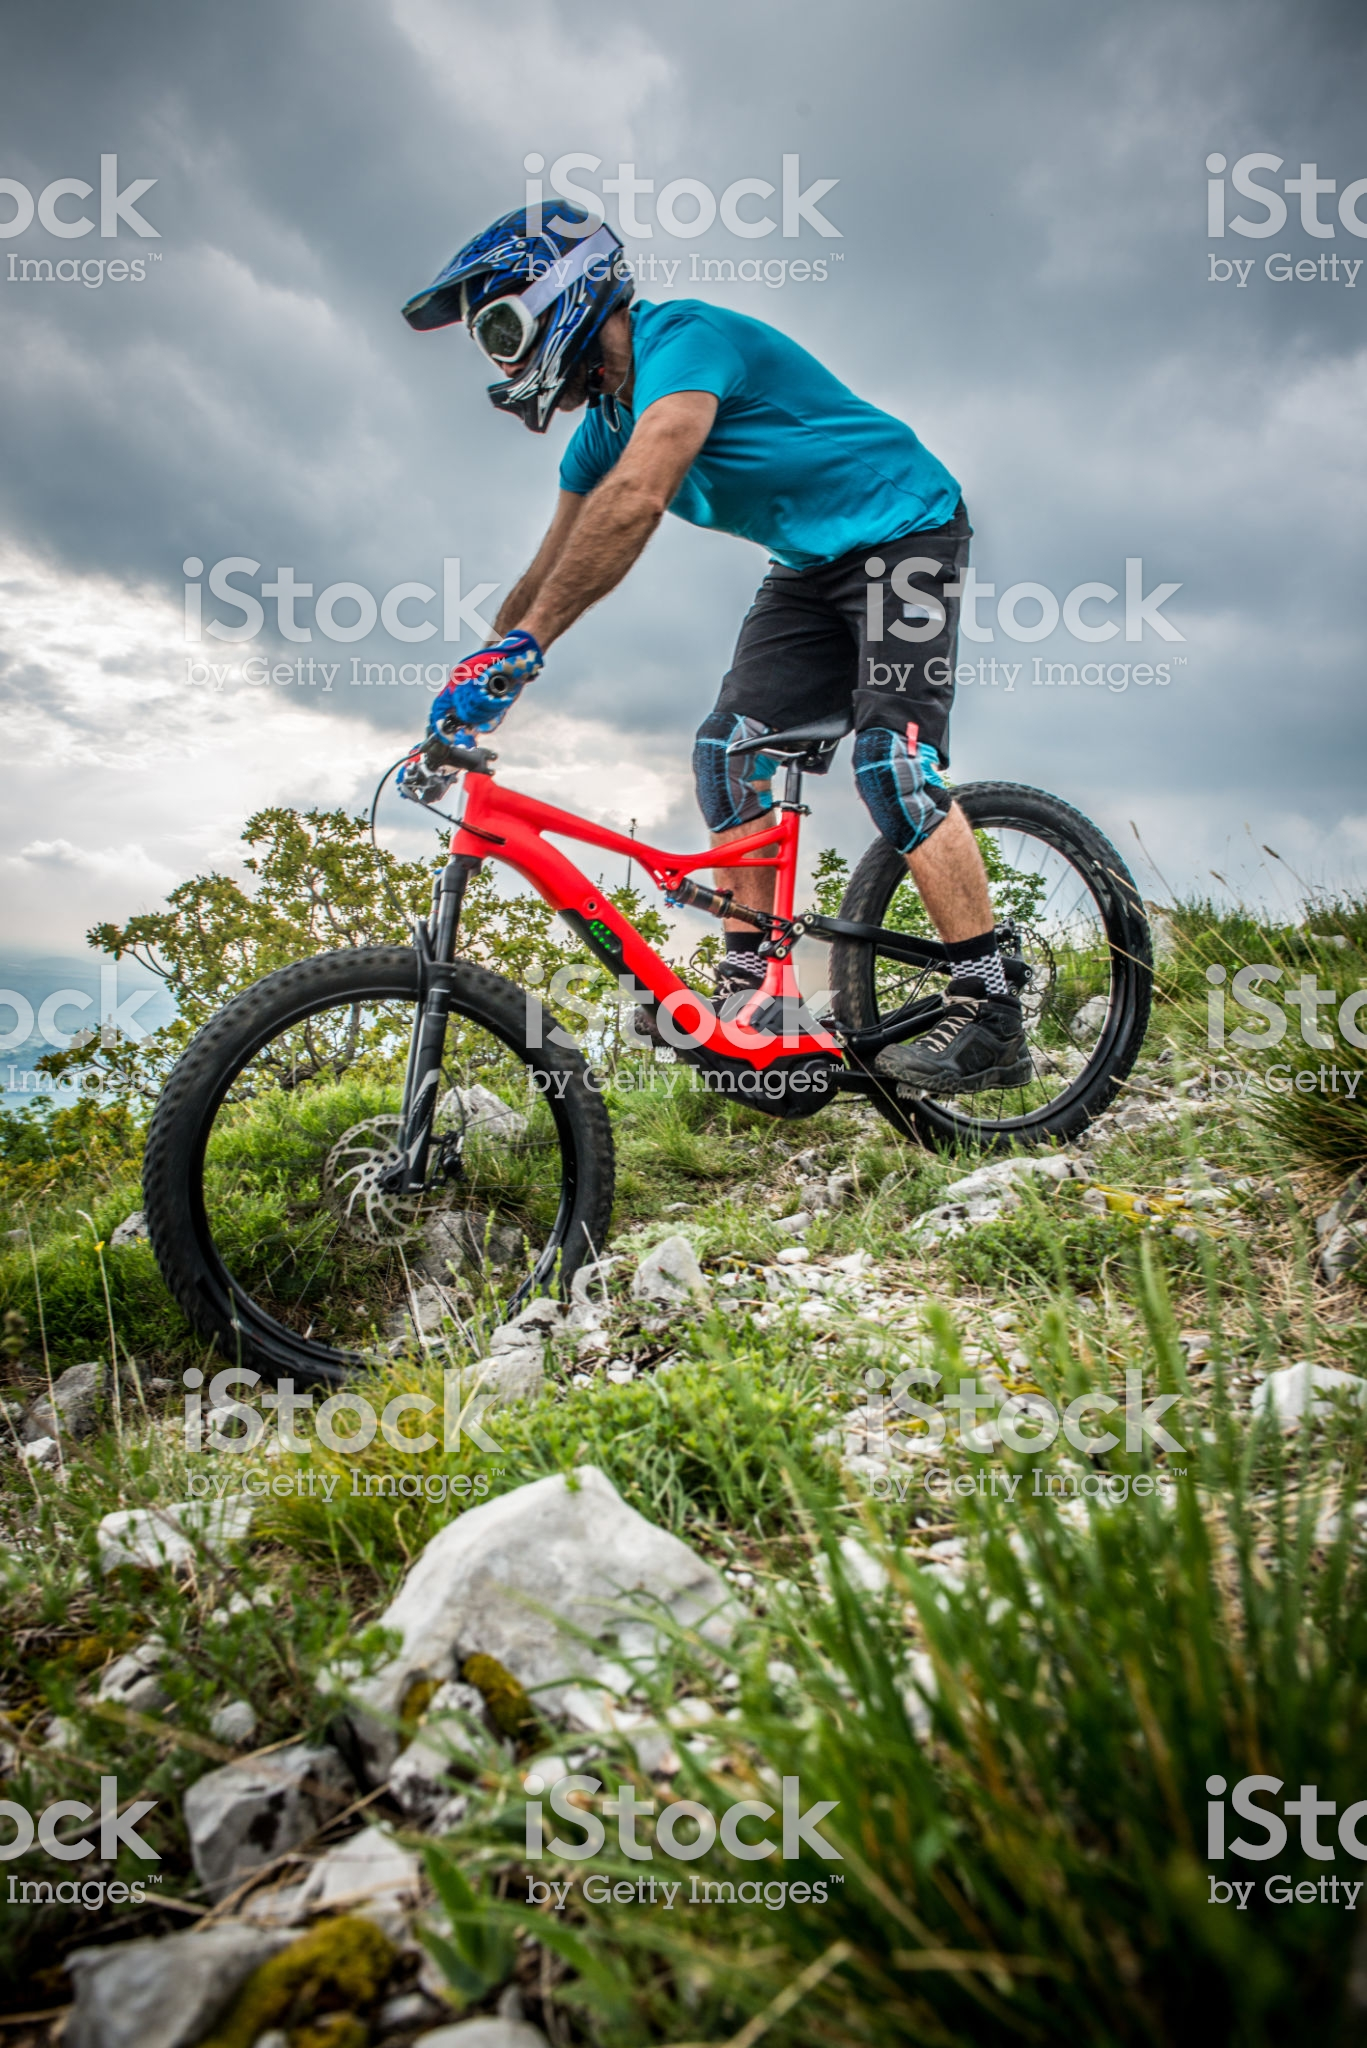helmet: (389, 194, 627, 416)
